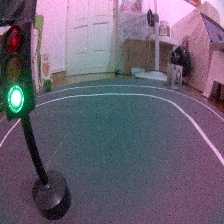green: (1, 16, 75, 223)
